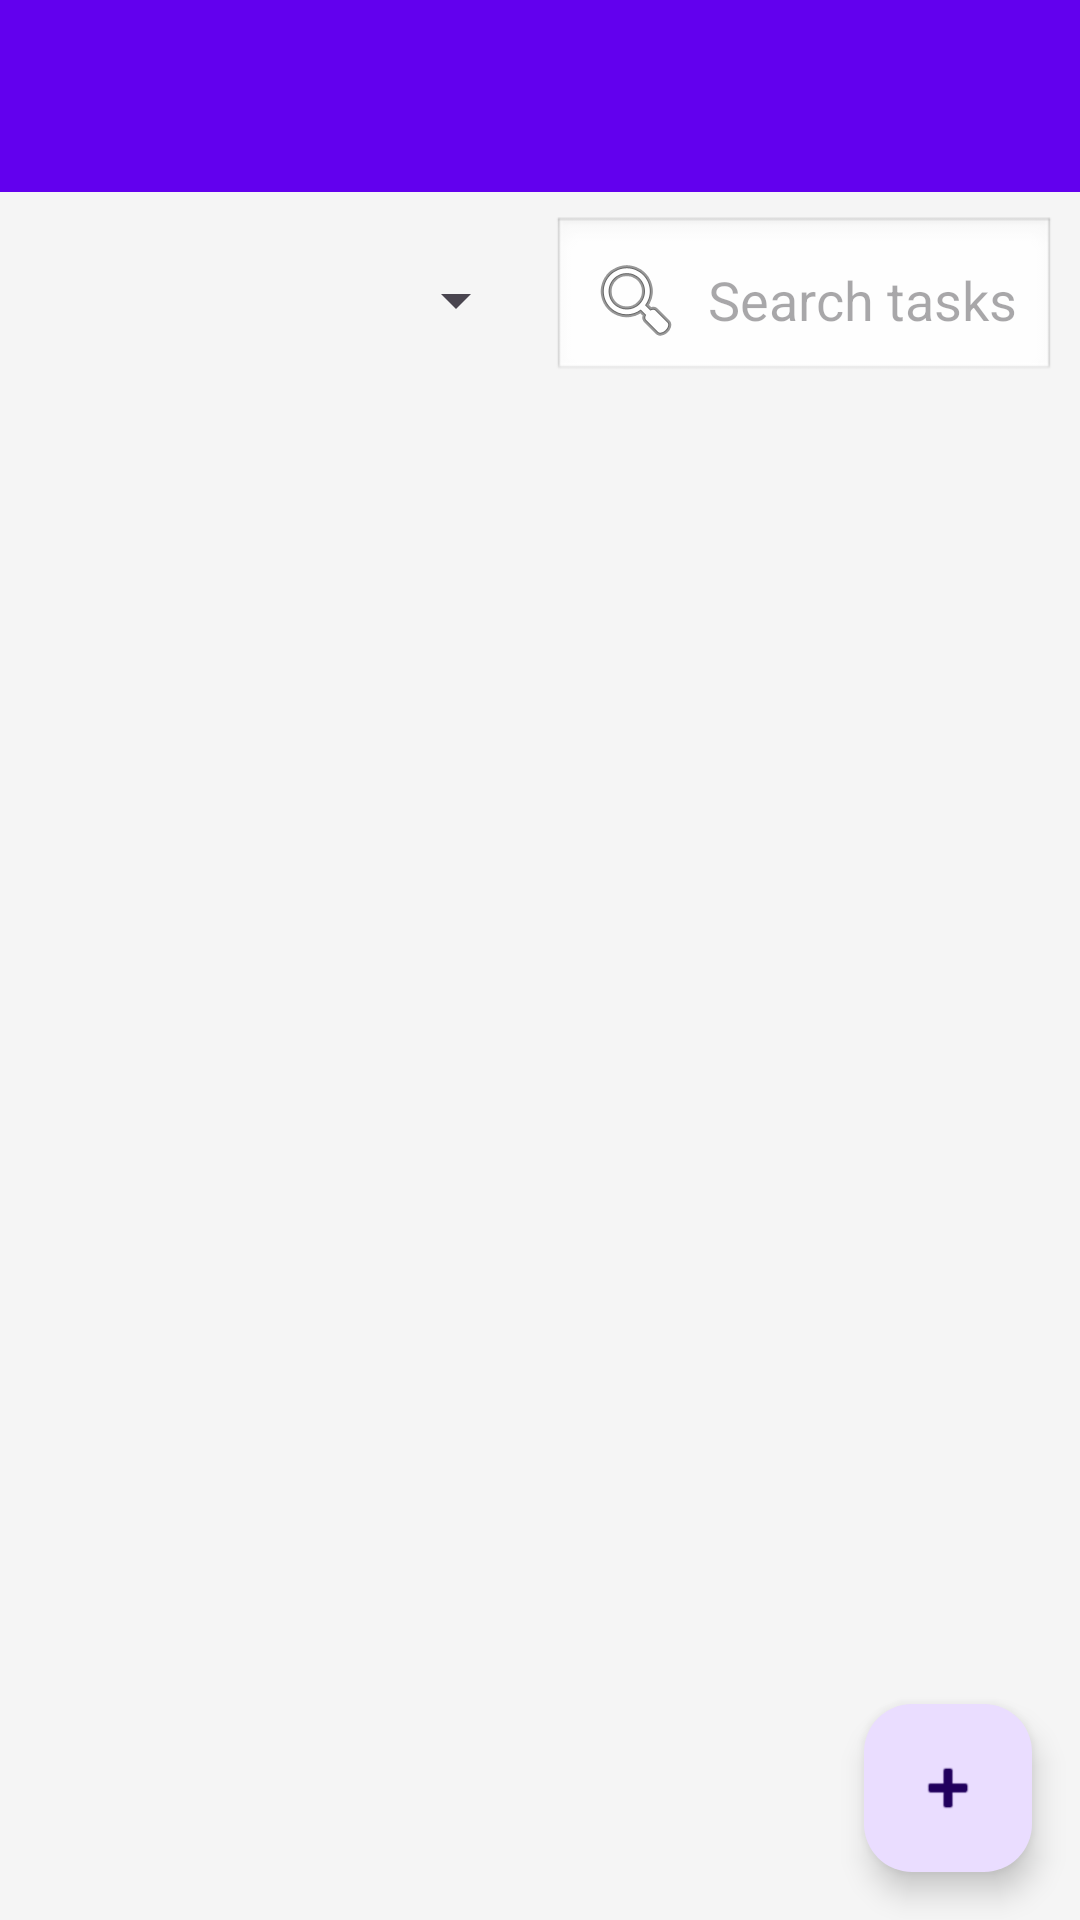

Point at icon controls on the screen. Image size 1080x1920, points as [x,y].
Add new task: [948,1788]
